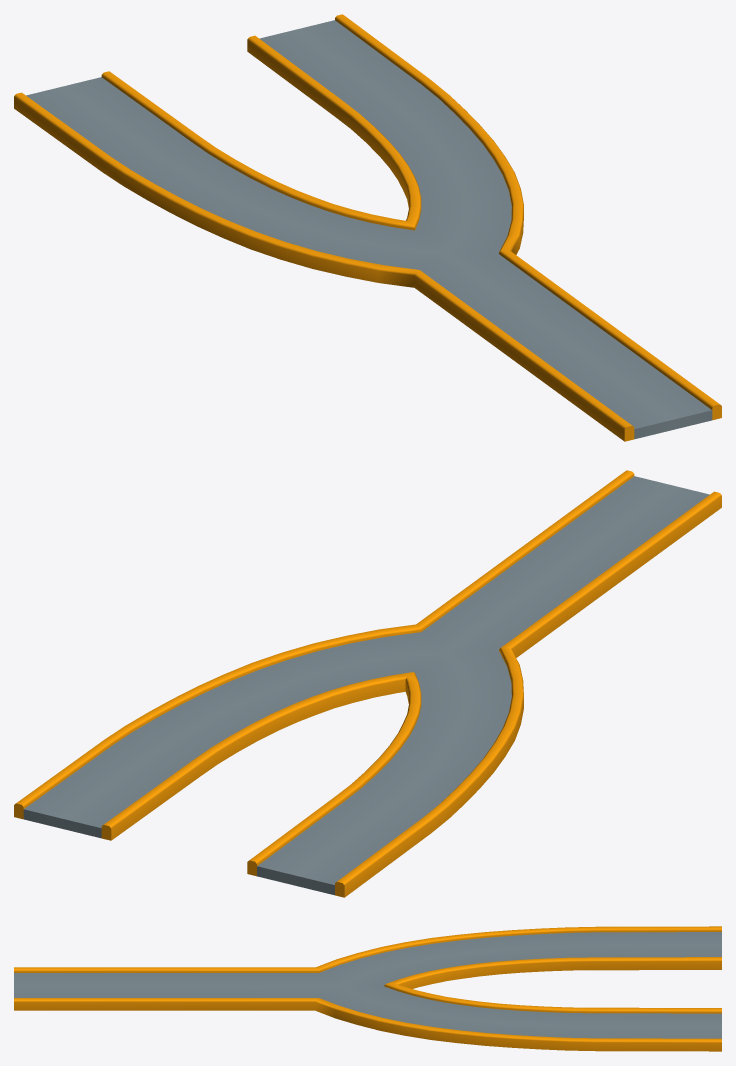
Rendered from platform_009.fbx.
The picture shows the model from 3 angles, top to bottom: view 1: azimuth 30°, elevation 25°; view 2: azimuth 150°, elevation 25°; view 3: azimuth 270°, elevation 25°; orthographic projection. The views are drawn at different scales.
Parts seen in each view (by area): view 1: platform_009; view 2: platform_009; view 3: platform_009.
Part boxes in pixels (x1,y1,x2,y2): platform_009: (14,14,721,441); platform_009: (14,470,721,897); platform_009: (14,926,721,1051).
Bounding box in the file's own units: 1700 × 4400 × 69.59.
